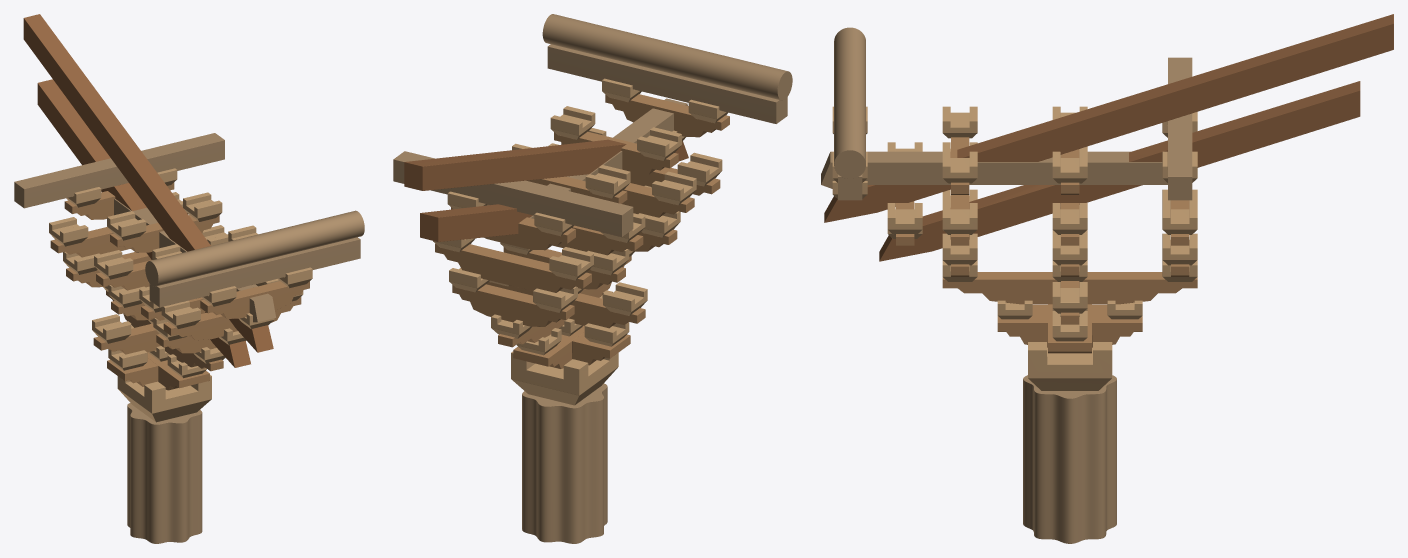
File: baoguosi-zhutou-v02.glb
3 renders of one model, left to right at view 1: azimuth 30°, elevation 25°; view 2: azimuth 150°, elevation 25°; view 3: azimuth 270°, elevation 25°, orthographic. The views are drawn at different scales.
Parts seen in each view (by area): view 1: context_gualeng_column, ang_xiaang_02, tuan_context_-1.44, fang_context_0.72, fang_context_-1.44, ang_xiaang_01, dou_ludou_01, gong_linggong_-1.44, gong_mangong_l4_-1.08, timber_shuatou_01, gong_mangong_center_01, gong_mangong_l4_0.72 (+21 smaller); view 2: context_gualeng_column, tuan_context_-1.44, ang_xiaang_02, fang_context_-1.44, fang_context_0.72, gong_mangong_l4_0.72, dou_ludou_01, ang_xiaang_01, gong_guazigong_l3_0.72, gong_linggong_-1.44, gong_mangong_center_01, timber_shuatou_01 (+28 smaller); view 3: ang_xiaang_02, context_gualeng_column, ang_xiaang_01, timber_shuatou_01, gong_huagong_tiao2_01, tuan_context_-1.44, dou_ludou_01, gong_huagong_tiao1_01, fang_context_0.72, dou_sandou_top_-0.72_-0.35, dou_sandou_top_-0.72_0.35, dou_sandou_top_0_0.35 (+10 smaller).
Part boxes in pixels (box(x1,y1,x2,y2)): context_gualeng_column: box(127, 403, 202, 543); ang_xiaang_02: box(23, 14, 273, 352); tuan_context_-1.44: box(145, 210, 364, 286); fang_context_0.72: box(14, 133, 224, 208); fang_context_-1.44: box(149, 237, 360, 307); ang_xiaang_01: box(37, 79, 250, 367); dou_ludou_01: box(117, 375, 211, 422); gong_linggong_-1.44: box(200, 281, 309, 318); gong_mangong_l4_-1.08: box(163, 297, 301, 340); timber_shuatou_01: box(114, 199, 275, 322); gong_mangong_center_01: box(93, 323, 160, 354); gong_mangong_l4_0.72: box(50, 214, 188, 257); context_gualeng_column: box(522, 383, 607, 543); tuan_context_-1.44: box(542, 14, 792, 100); ang_xiaang_02: box(404, 139, 688, 190); fang_context_-1.44: box(547, 44, 787, 123); fang_context_0.72: box(393, 151, 633, 236); gong_mangong_l4_0.72: box(435, 243, 591, 292); dou_ludou_01: box(511, 351, 618, 405); ang_xiaang_01: box(420, 204, 532, 241); gong_guazigong_l3_0.72: box(452, 284, 574, 326); gong_linggong_-1.44: box(605, 94, 729, 137); gong_mangong_center_01: box(487, 282, 645, 328); timber_shuatou_01: box(530, 98, 687, 218); ang_xiaang_02: box(824, 14, 1393, 222); context_gualeng_column: box(1023, 375, 1116, 543); ang_xiaang_01: box(879, 81, 1360, 261); timber_shuatou_01: box(821, 151, 1167, 188); gong_huagong_tiao2_01: box(942, 272, 1197, 304); tuan_context_-1.44: box(834, 27, 865, 178); dou_ludou_01: box(1028, 342, 1112, 390); gong_huagong_tiao1_01: box(997, 304, 1142, 347); fang_context_0.72: box(1168, 57, 1192, 200); dou_sandou_top_-0.72_-0.35: box(942, 106, 977, 138); dou_sandou_top_-0.72_0.35: box(942, 151, 977, 183); dou_sandou_top_0_0.35: box(1052, 151, 1087, 183).
Bounding box in the file's own units: 1.9 × 3.65 × 3.75.
